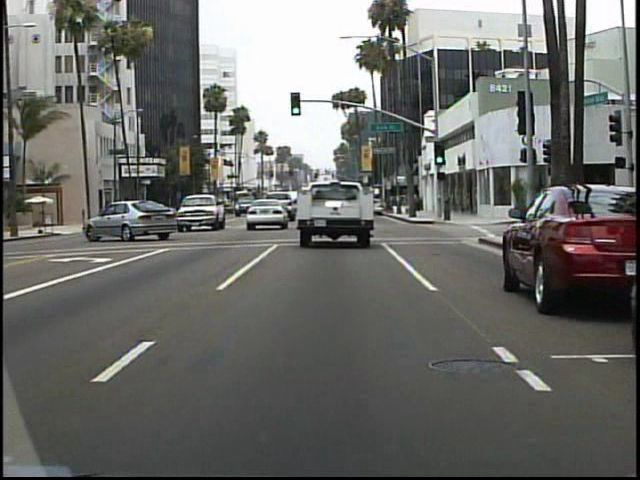person: (441, 185, 457, 224)
